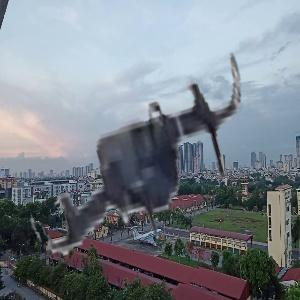drone: (7, 21, 275, 289)
